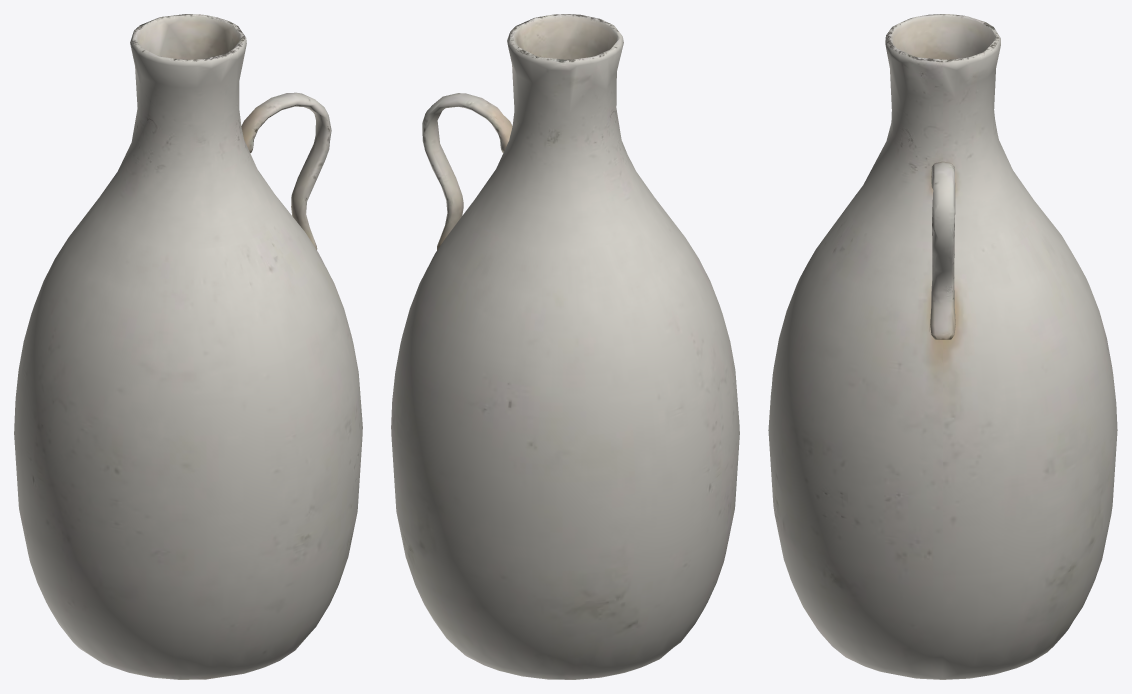
Rendered from vase.glb.
3 views of the same model, side by side, from view 1: azimuth 30°, elevation 25°; view 2: azimuth 150°, elevation 25°; view 3: azimuth 270°, elevation 25° (orthographic).
Visible parts, largest first — view 1: ceramic_vase_04; view 2: ceramic_vase_04; view 3: ceramic_vase_04.
Boxes of the visible parts, x1,y1,x2,y2 form: ceramic_vase_04: (14, 14, 362, 679); ceramic_vase_04: (391, 14, 739, 679); ceramic_vase_04: (768, 14, 1117, 679).
Bounding box in the file's own units: 0.1811 × 0.3419 × 0.1811.
Materials: 1 (1 with a texture image).
